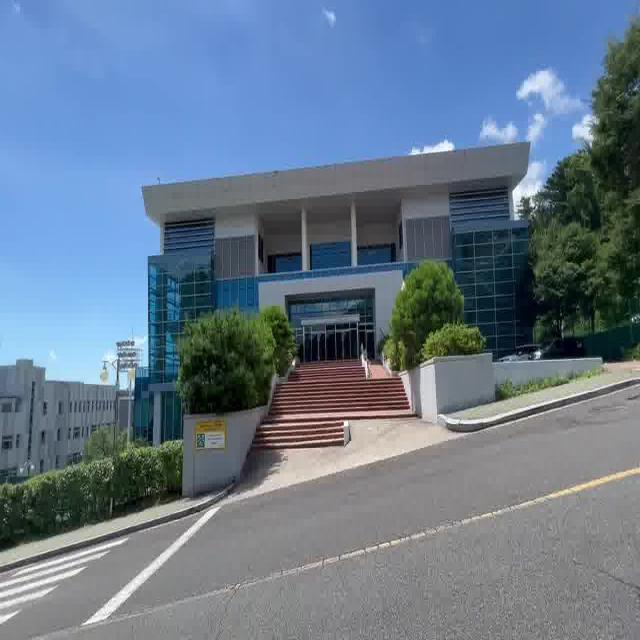building: (136, 133, 525, 352)
